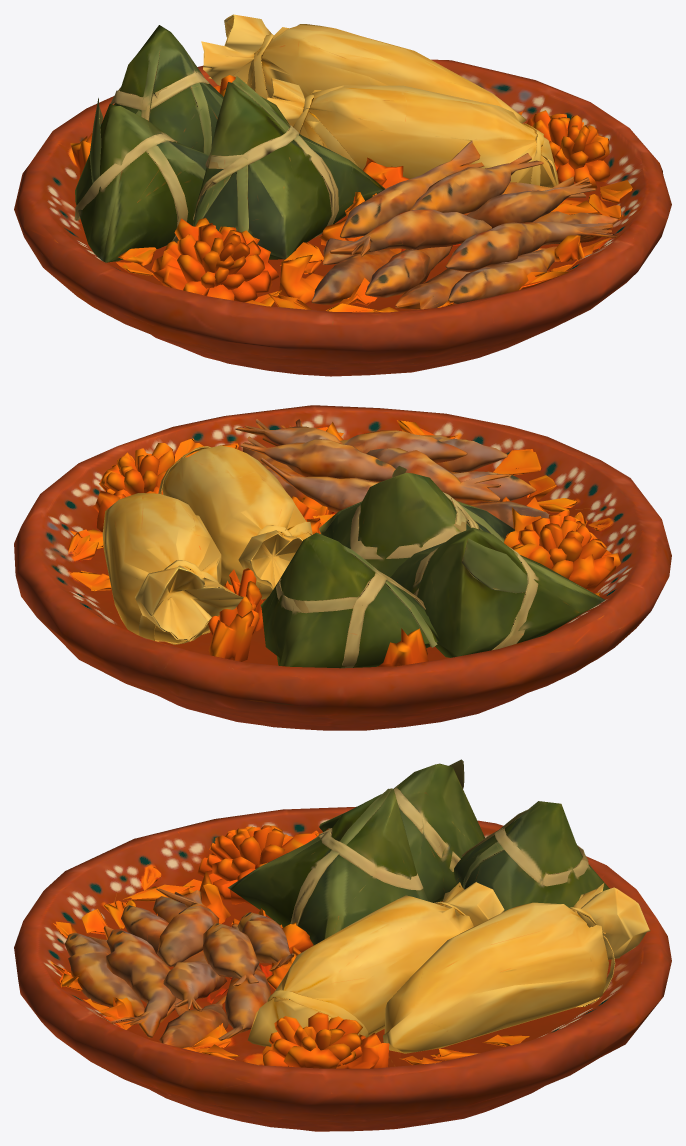
File: Meshy_AI_Purepecha_Food_Offering_20261110_texture.obj
3 renders of one model, top to bottom at view 1: azimuth 30°, elevation 25°; view 2: azimuth 150°, elevation 25°; view 3: azimuth 270°, elevation 25°, orthographic.
Parts seen in each view (by area): view 1: Meshy_AI_Purepecha_Food_Offering_20261110_texture; view 2: Meshy_AI_Purepecha_Food_Offering_20261110_texture; view 3: Meshy_AI_Purepecha_Food_Offering_20261110_texture.
Part boxes in pixels (x1,y1,x2,y2): Meshy_AI_Purepecha_Food_Offering_20261110_texture: (14, 14, 671, 376); Meshy_AI_Purepecha_Food_Offering_20261110_texture: (14, 405, 671, 730); Meshy_AI_Purepecha_Food_Offering_20261110_texture: (14, 759, 671, 1131).
Size of the model in its own units: 0.9512 by 0.3286 by 0.9502.
Materials: 1 (1 with a texture image).
